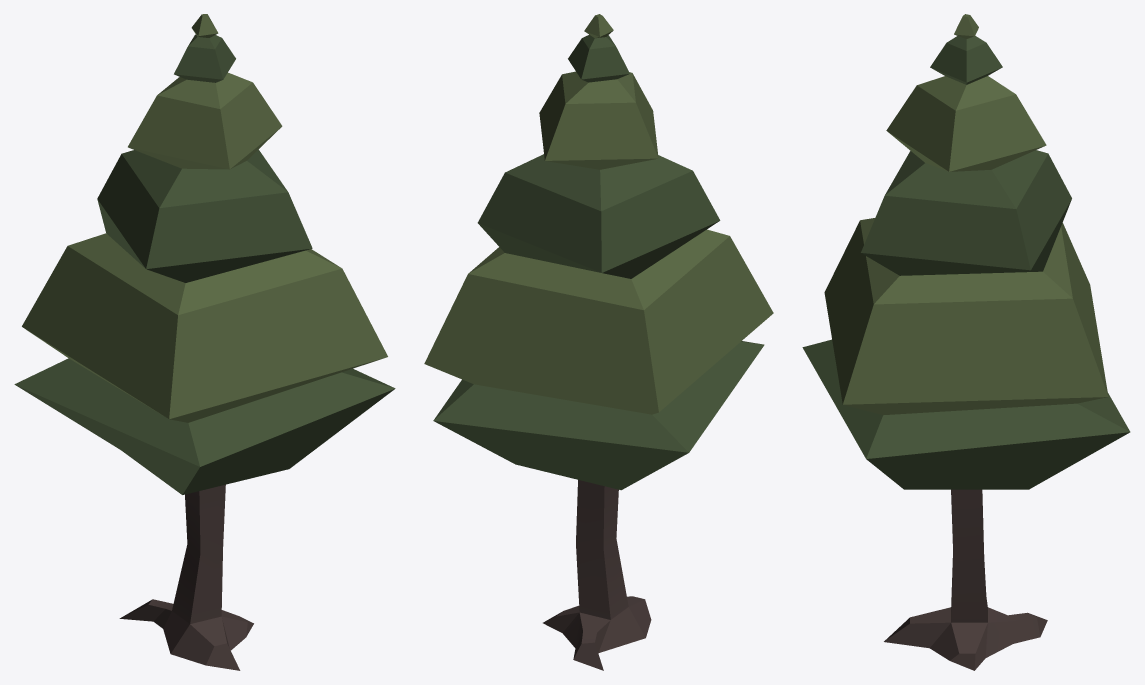
File: tree_pine_1.fbx
The picture shows the model from 3 angles, left to right: view 1: azimuth 30°, elevation 25°; view 2: azimuth 150°, elevation 25°; view 3: azimuth 270°, elevation 25°; orthographic projection.
Visible parts, largest first — view 1: pCube4; view 2: pCube4; view 3: pCube4.
Part boxes in pixels (x1=…): pCube4: x1=14, y1=14, x2=395, y2=670; pCube4: x1=424, y1=14, x2=773, y2=670; pCube4: x1=802, y1=14, x2=1130, y2=670.
Bounding box in the file's own units: 5.01 × 10.59 × 5.01.
